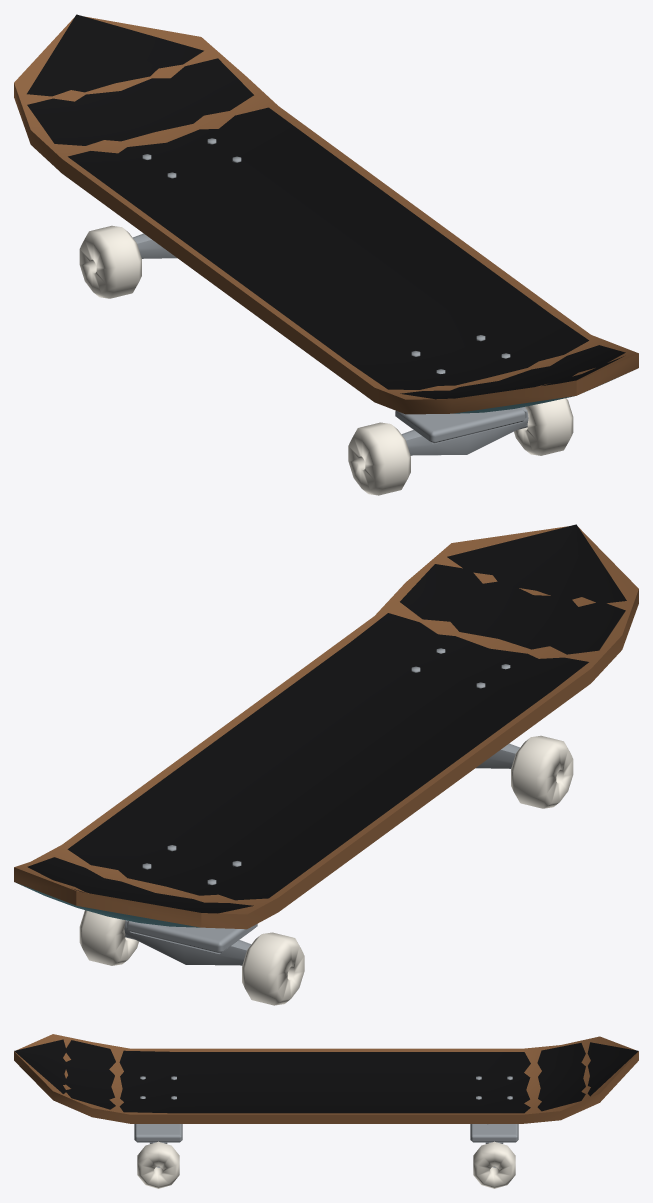
Rendered from hero-board.lod2.glb.
3 views of the same model, one above another, from view 1: azimuth 30°, elevation 25°; view 2: azimuth 150°, elevation 25°; view 3: azimuth 270°, elevation 25° (orthographic). The views are drawn at different scales.
Parts seen in each view (by area): view 1: GripTape, Deck, Truck_F, Wheel_RL, Wheel_FL, Wheel_FR; view 2: GripTape, Deck, Truck_R, Wheel_FL, Wheel_RL, Wheel_RR; view 3: GripTape, Deck, Wheel_FR, Wheel_RR, Truck_R, Truck_F.
Boxes of the visible parts, <box> form: GripTape: <box>27,14,625,399</box>; Deck: <box>14,16,638,414</box>; Truck_F: <box>395,407,528,455</box>; Wheel_RL: <box>79,225,141,298</box>; Wheel_FL: <box>348,422,410,495</box>; Wheel_FR: <box>514,398,573,455</box>; GripTape: <box>27,524,626,913</box>; Deck: <box>14,526,638,929</box>; Truck_R: <box>124,920,257,965</box>; Wheel_FL: <box>511,735,573,808</box>; Wheel_RL: <box>242,932,304,1005</box>; Wheel_RR: <box>79,910,138,965</box>; GripTape: <box>14,1039,638,1113</box>; Deck: <box>14,1034,638,1123</box>; Wheel_FR: <box>137,1141,179,1188</box>; Wheel_RR: <box>473,1141,515,1188</box>; Truck_R: <box>470,1124,518,1167</box>; Truck_F: <box>134,1124,182,1167</box>.
Bounding box in the file's own units: 0.2 × 0.1551 × 0.8.
